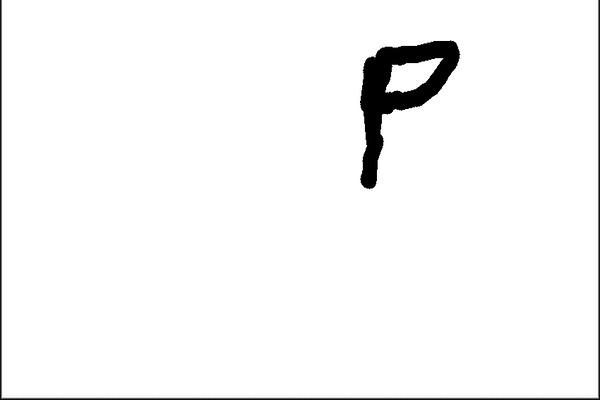P: (345, 29, 472, 202)
